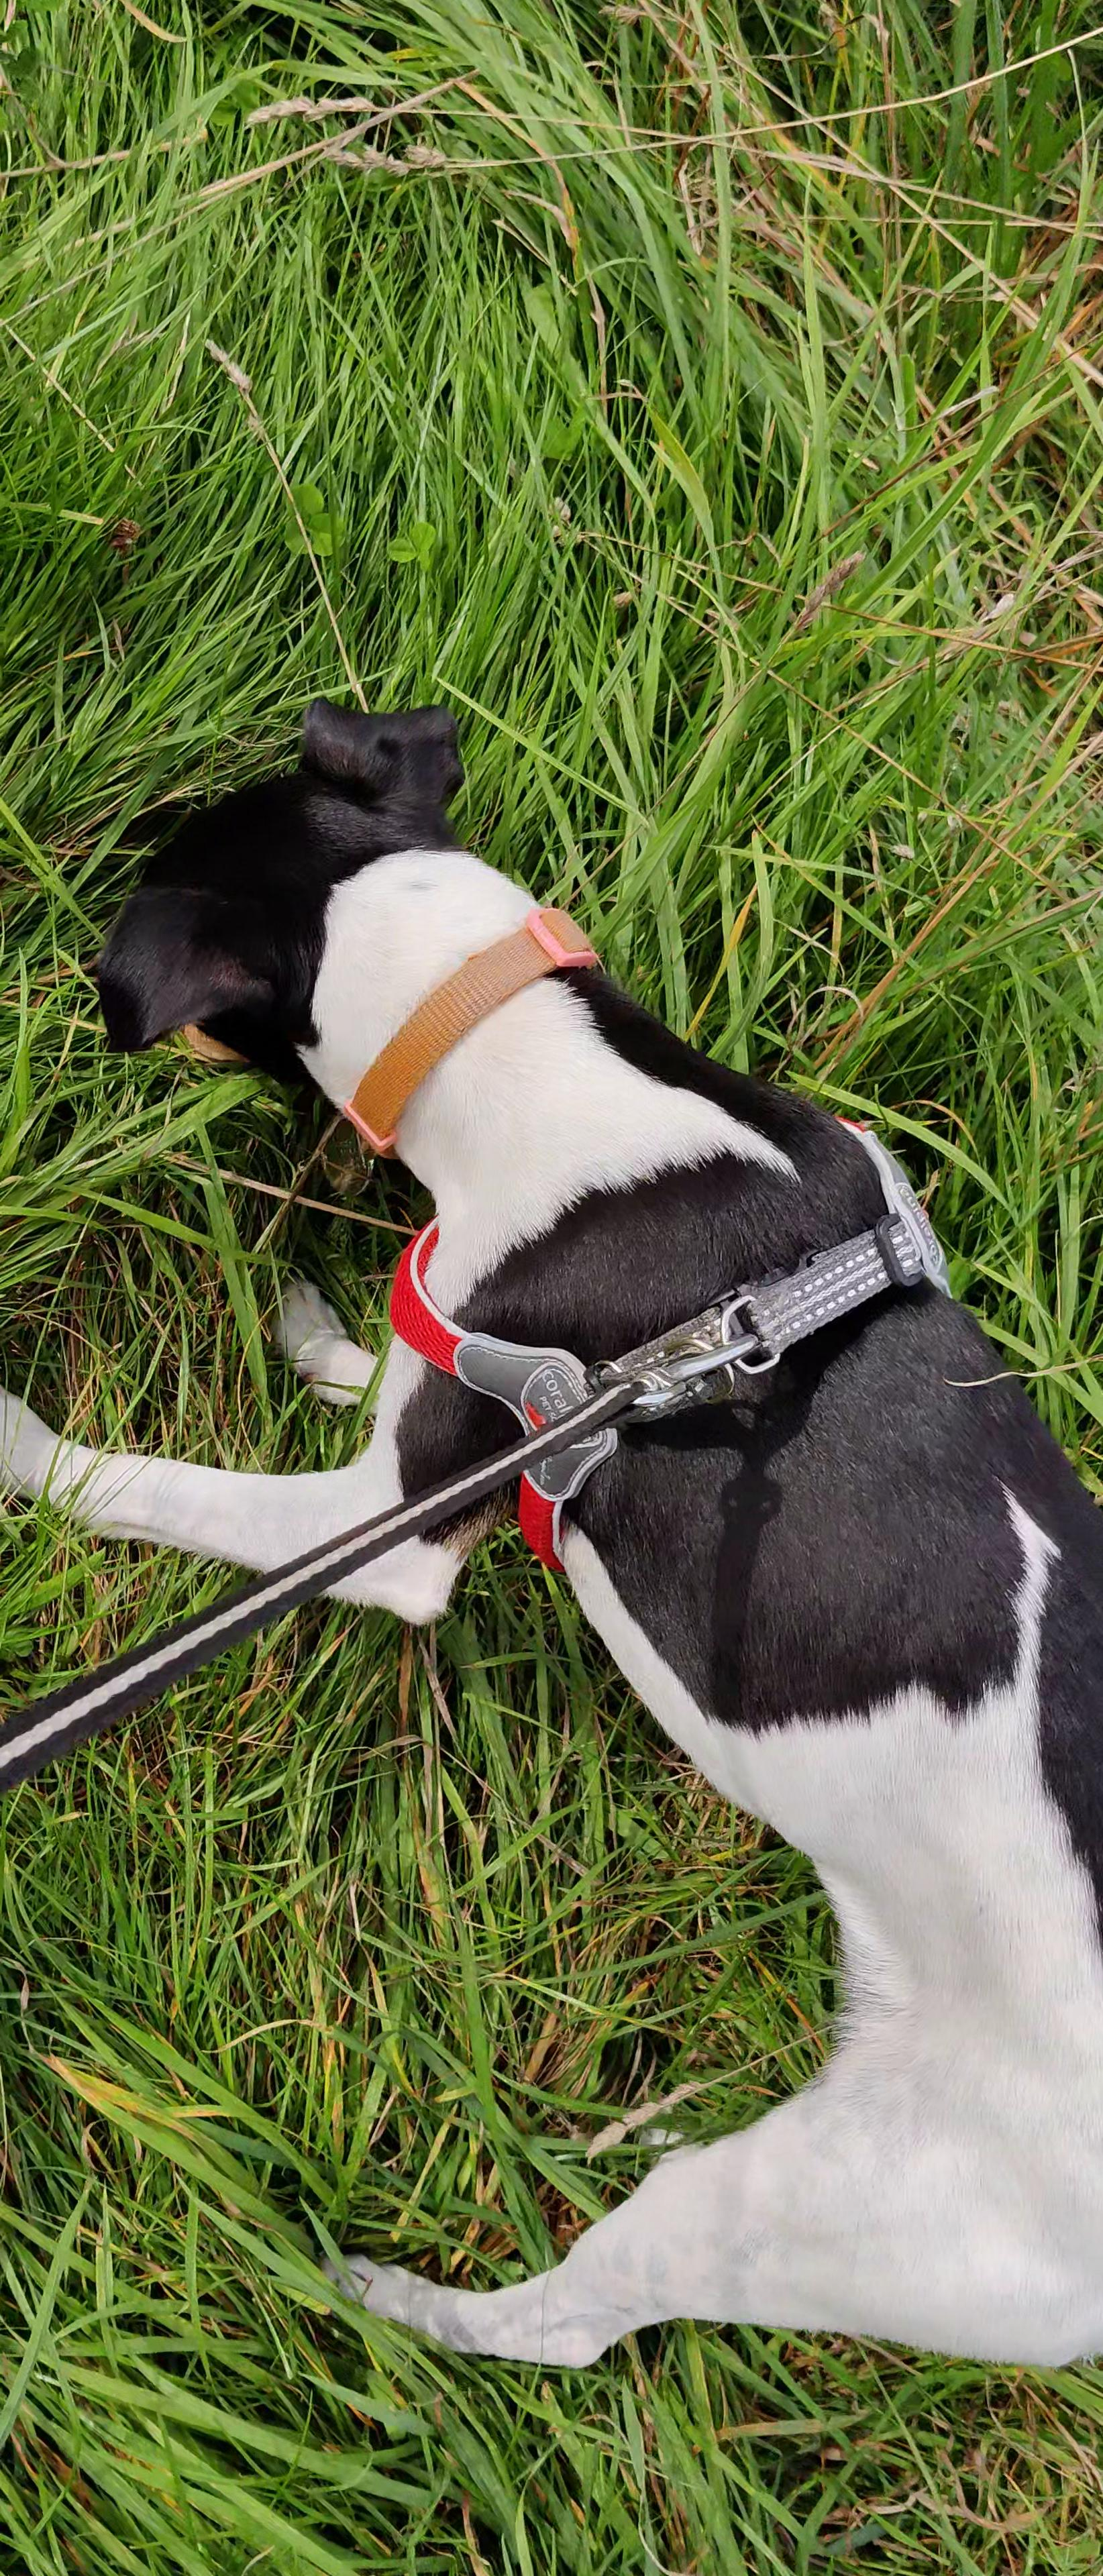Dog: (0, 680, 1103, 2371)
